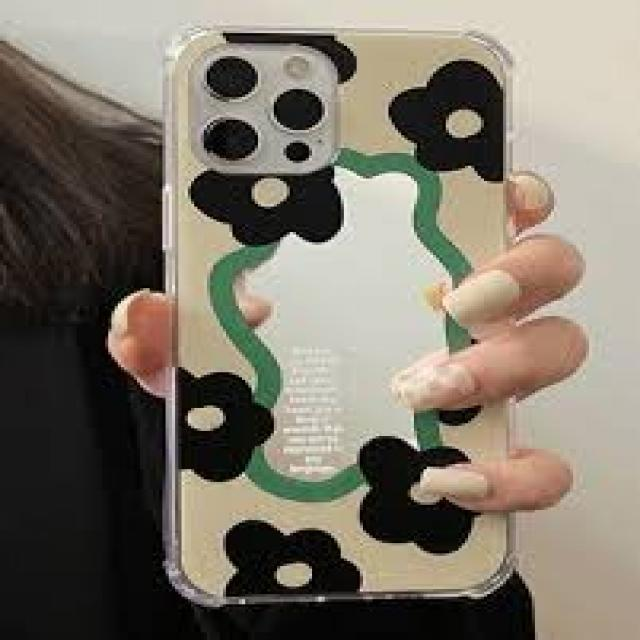Phone: (158, 18, 522, 606)
